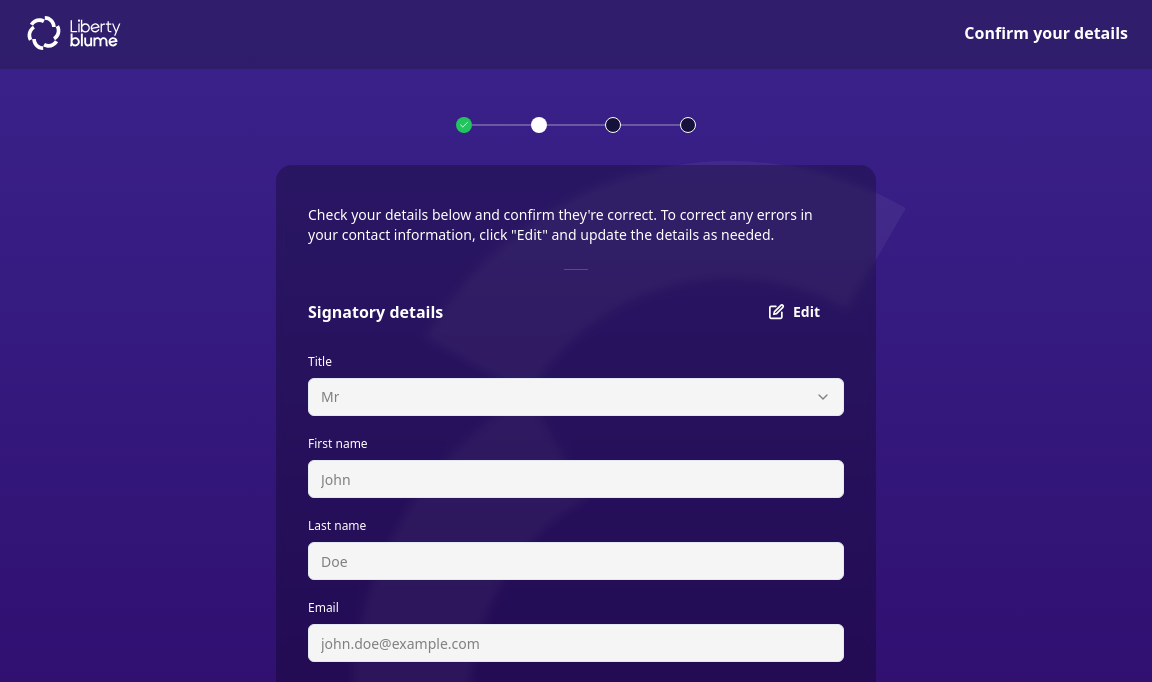
Test: ConfirmDetails › conditional field visibility › shows mobile field in edit mode even when empty
This screenshot has width=1152, height=682.
Step 1. Click the button "Edit" → [794, 312], box [745, 294, 844, 330]
(page scrolled)
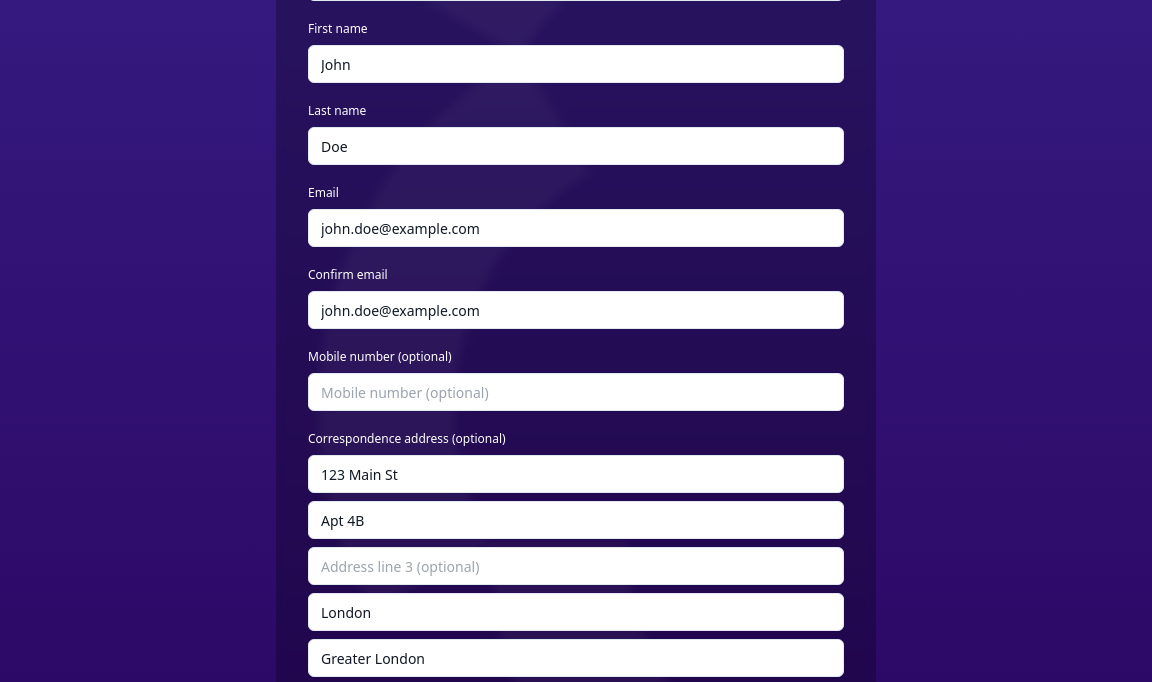
Check: the text "Mobile number (optional)" is shown, box [308, 348, 452, 365]
